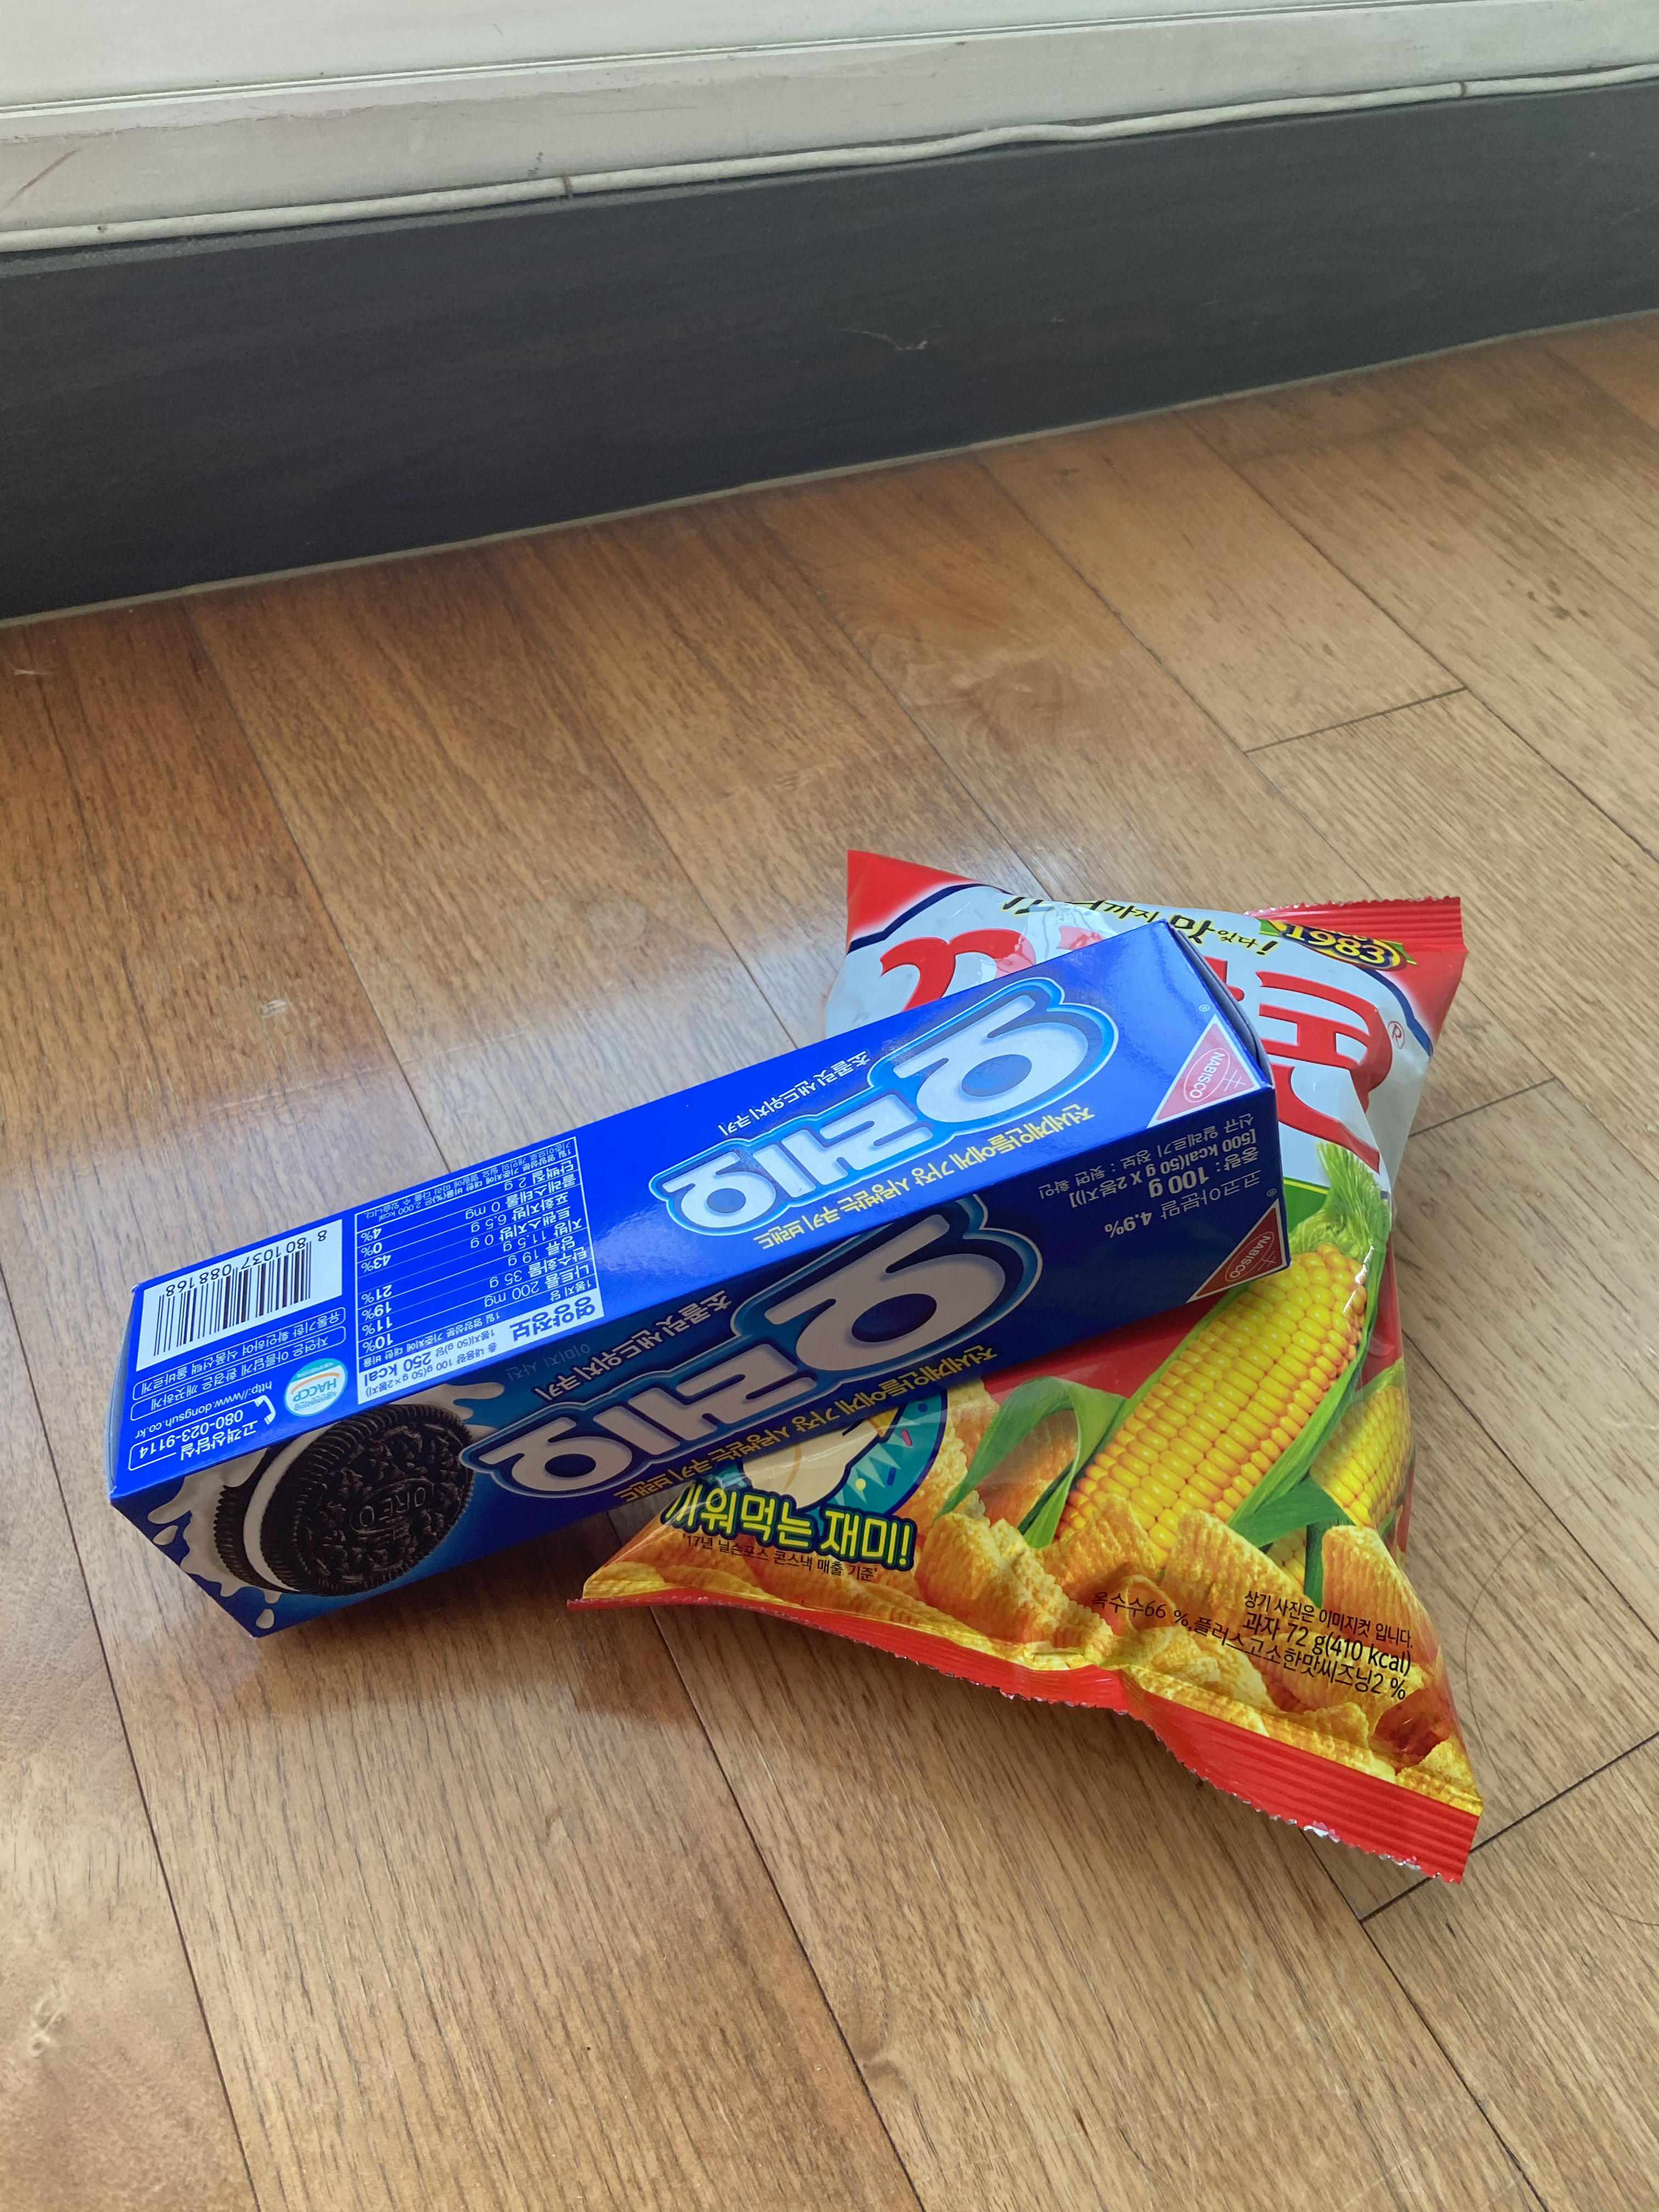ggoggalcon: (554, 822, 1497, 1893)
oreo: (98, 913, 1307, 1651)
